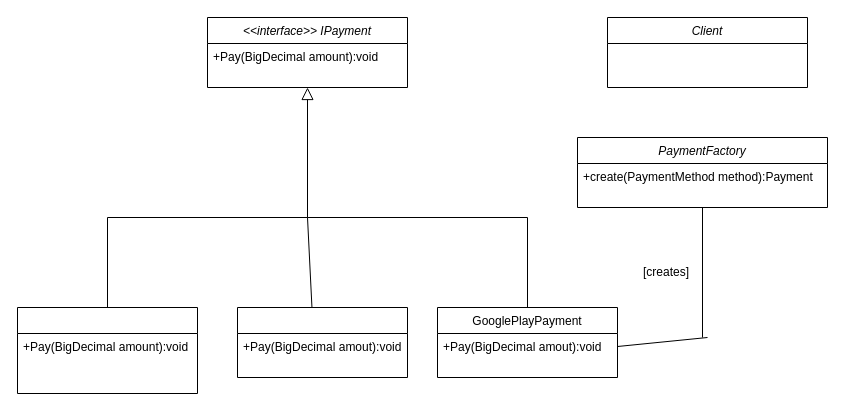
Some shapes in this 845 by 411 pixel diagram are drawn without their labels. Each missing label, with the box of its shape:
CreaditCardPayment: (16, 306, 198, 394)
PaypalPayment: (236, 306, 408, 378)
